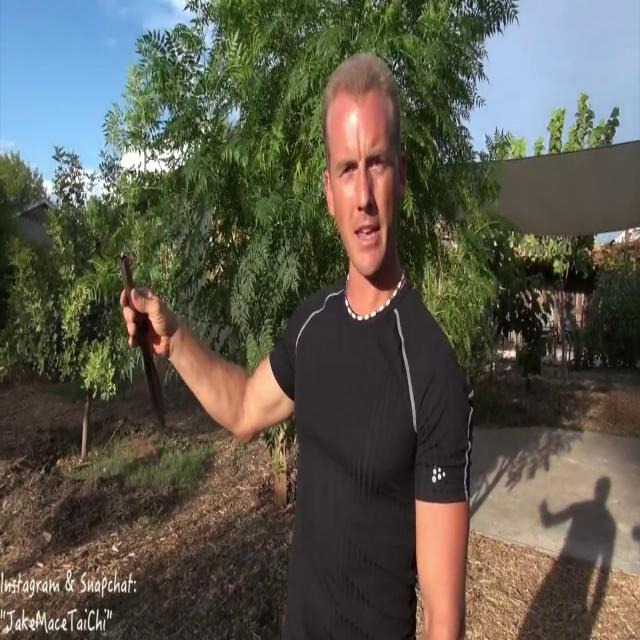knife: (110, 236, 170, 430)
